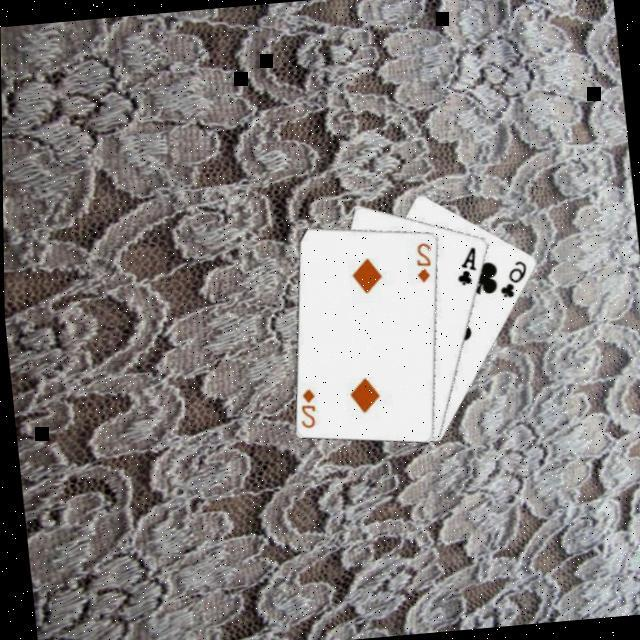2D: (411, 239, 438, 287), (294, 386, 321, 434)
6C: (494, 259, 533, 304)
AC: (451, 244, 482, 290)
